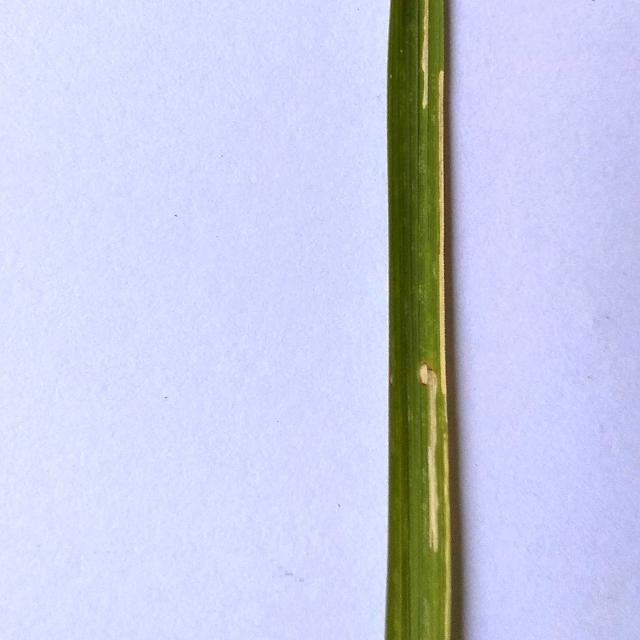Blast: (418, 40, 428, 106), (416, 366, 434, 386)
